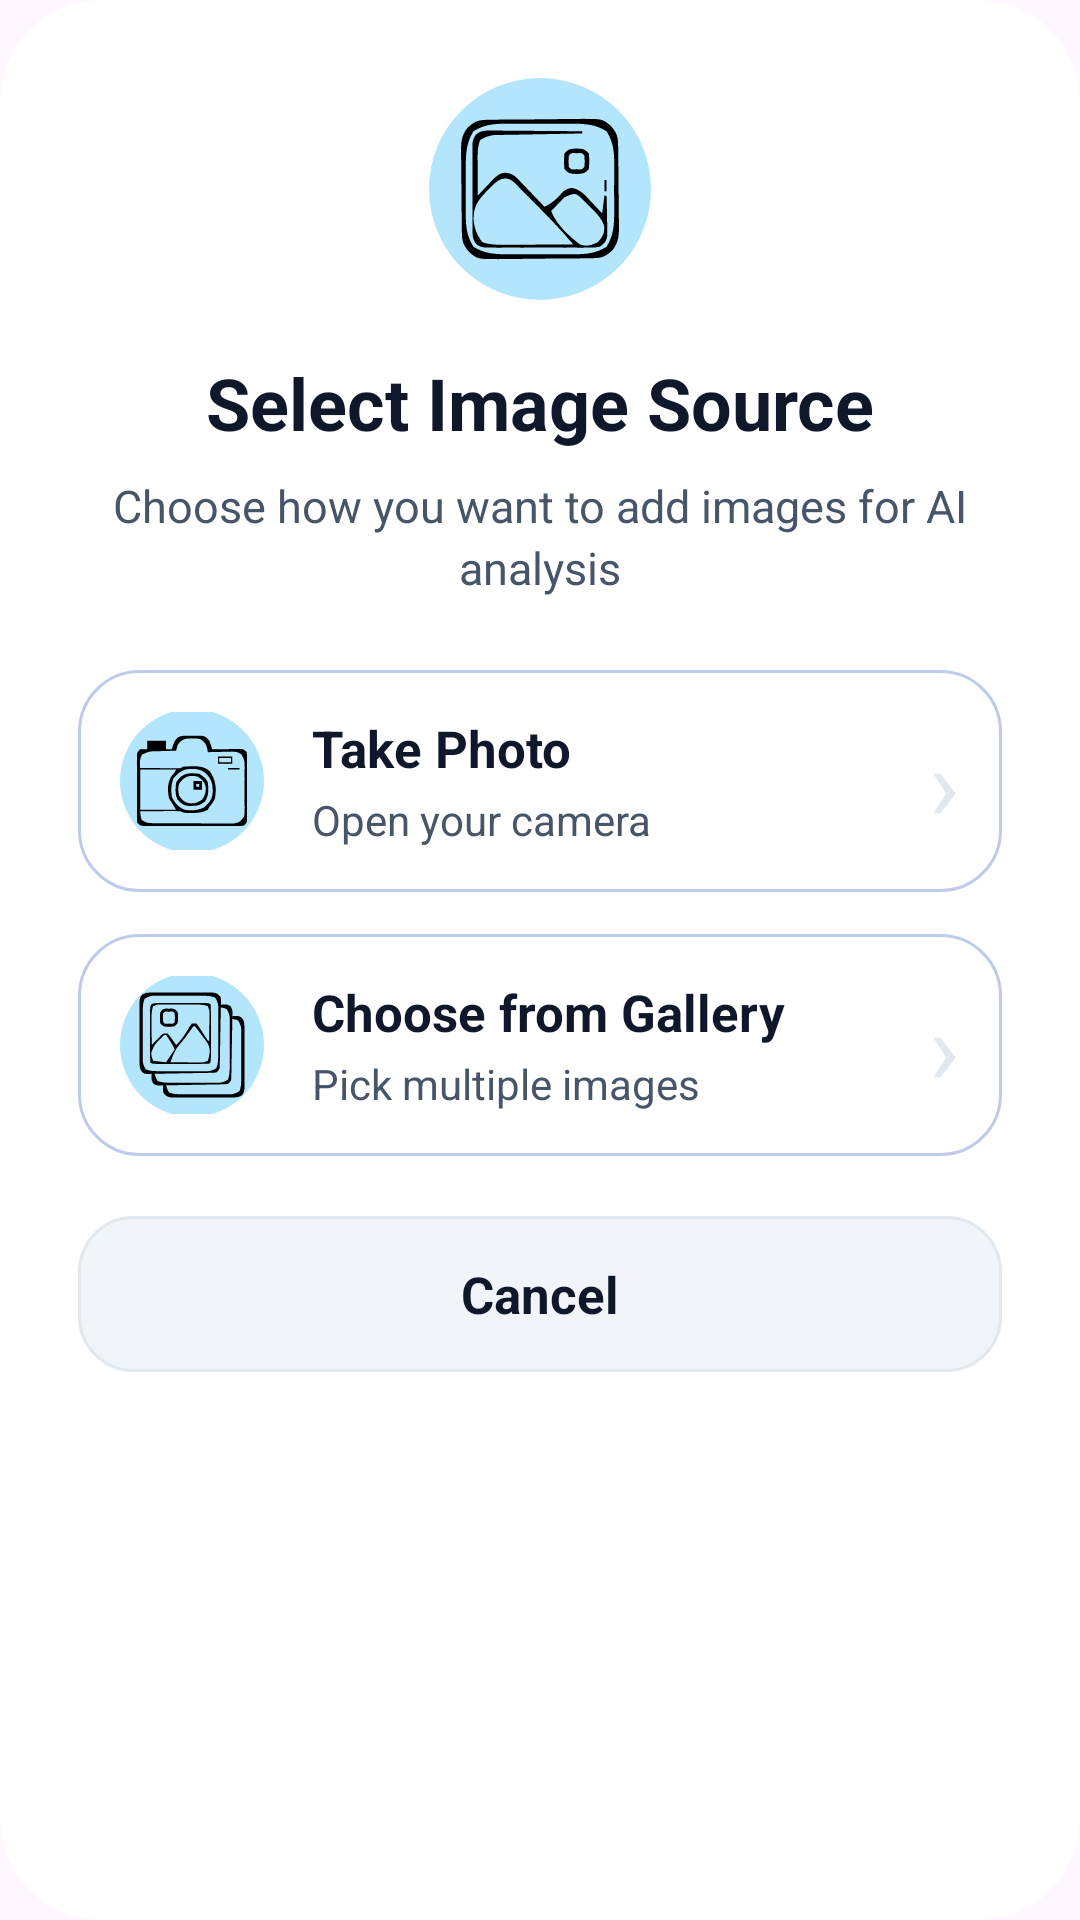

Screen size 1080 × 1920. Icon name, then its center in pixels as point (x, y):
AI image icon: point (540, 189)
